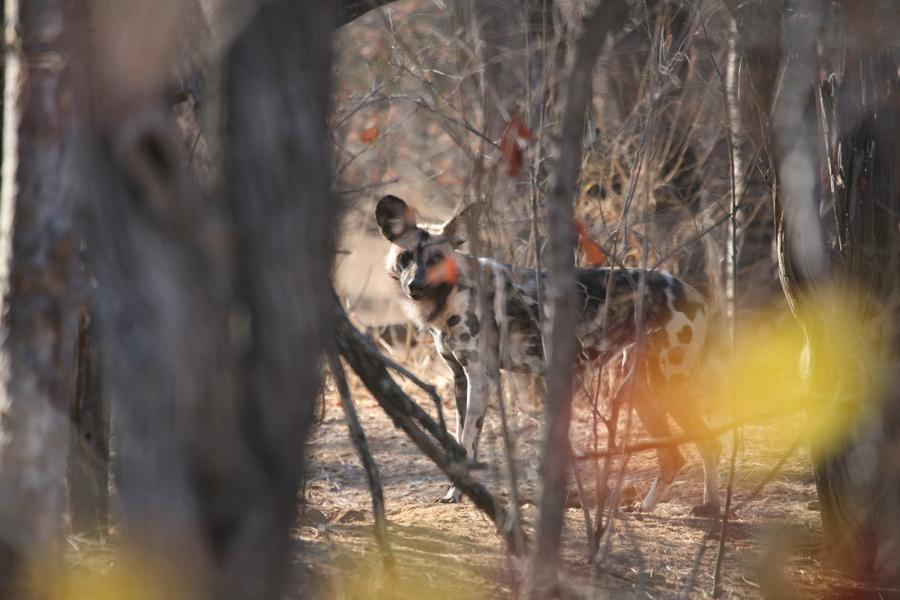wilddog: (377, 205, 724, 401)
